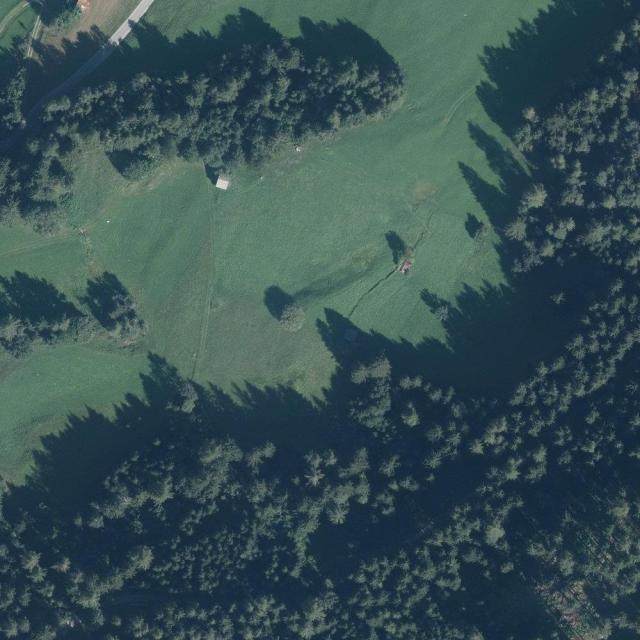greenland: (477, 0, 640, 273), (40, 0, 147, 48), (8, 5, 43, 39)
unmetalled_road: (23, 14, 45, 60)
